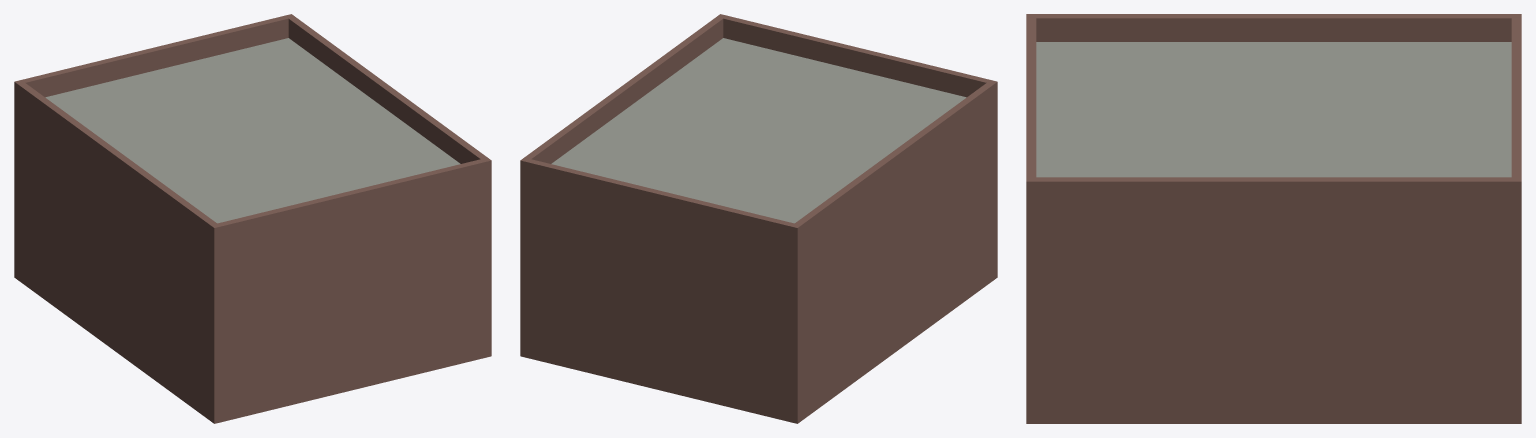
File: far.fbx
3 views of the same model, side by side, from view 1: azimuth 30°, elevation 25°; view 2: azimuth 150°, elevation 25°; view 3: azimuth 270°, elevation 25° (orthographic). The views are drawn at different scales.
Visible parts, largest first — view 1: a2002/0/far; view 2: a2002/0/far; view 3: a2002/0/far.
Part boxes in pixels (x1,y1,x2,y2): a2002/0/far: (14,14,491,423); a2002/0/far: (520,14,997,423); a2002/0/far: (1026,14,1521,423).
Size of the model in its own units: 12 by 8.1 by 15.
